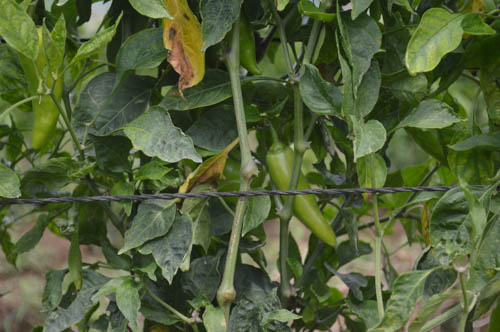ChiliPepper: (270, 147, 337, 242), (23, 27, 60, 148)
